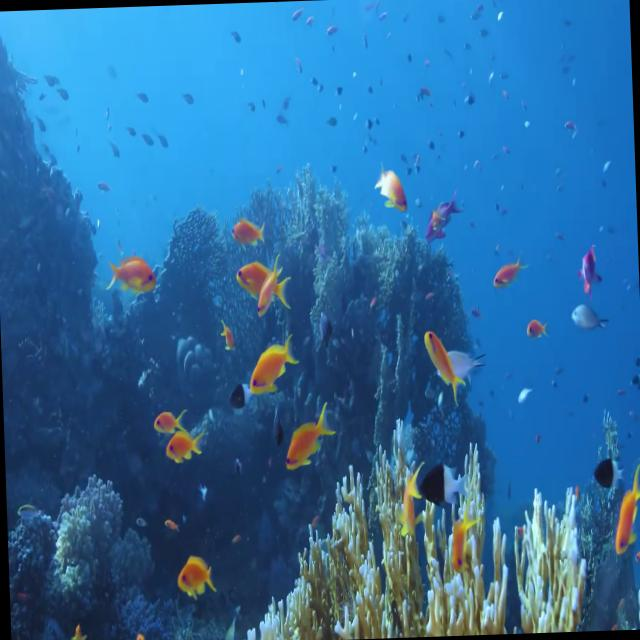fish: (278, 389, 340, 484), (411, 444, 474, 517), (420, 314, 468, 406), (245, 326, 304, 398), (233, 249, 291, 321), (97, 240, 160, 304), (605, 459, 640, 562), (173, 540, 220, 607), (368, 156, 408, 219), (419, 187, 458, 250), (252, 248, 285, 320), (568, 288, 610, 342), (570, 240, 606, 298), (150, 400, 196, 442), (489, 243, 530, 290), (587, 438, 617, 498), (162, 426, 205, 464), (518, 303, 552, 351), (226, 216, 268, 250), (226, 374, 254, 424), (511, 378, 536, 411)
